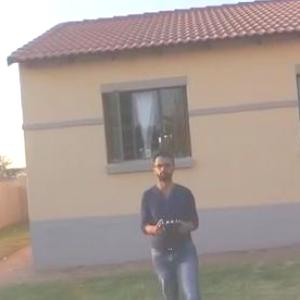follow: (134, 144, 208, 299)
